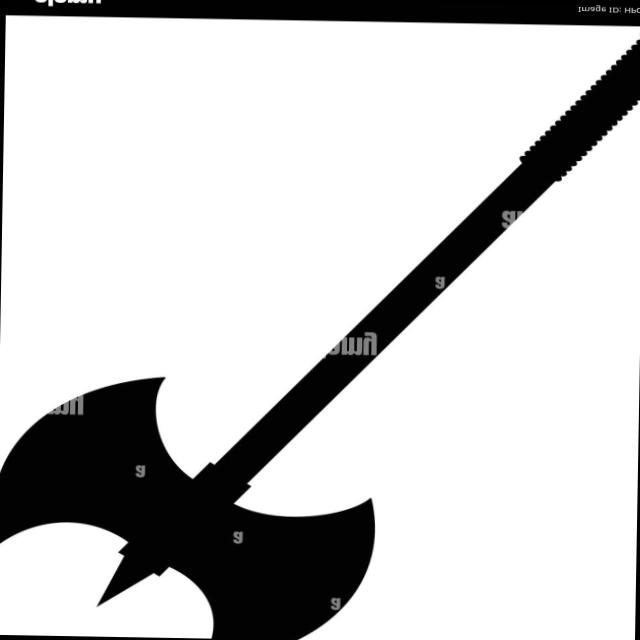Gun: (0, 19, 640, 640)
